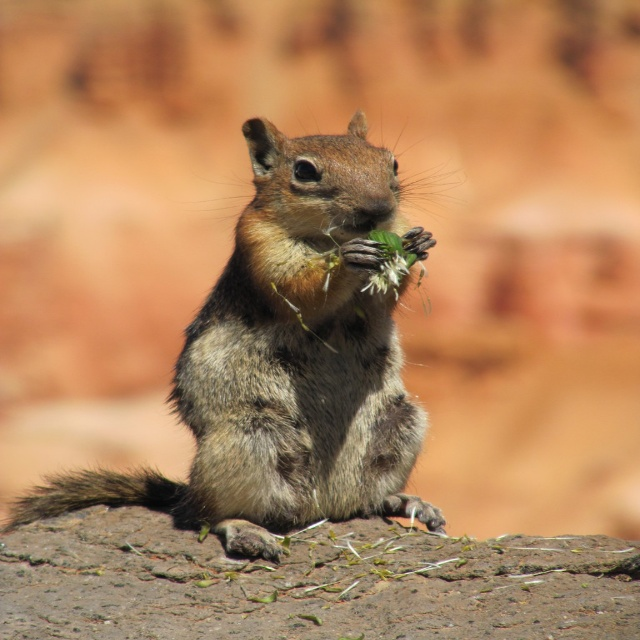Squirrel: (0, 108, 468, 565)
